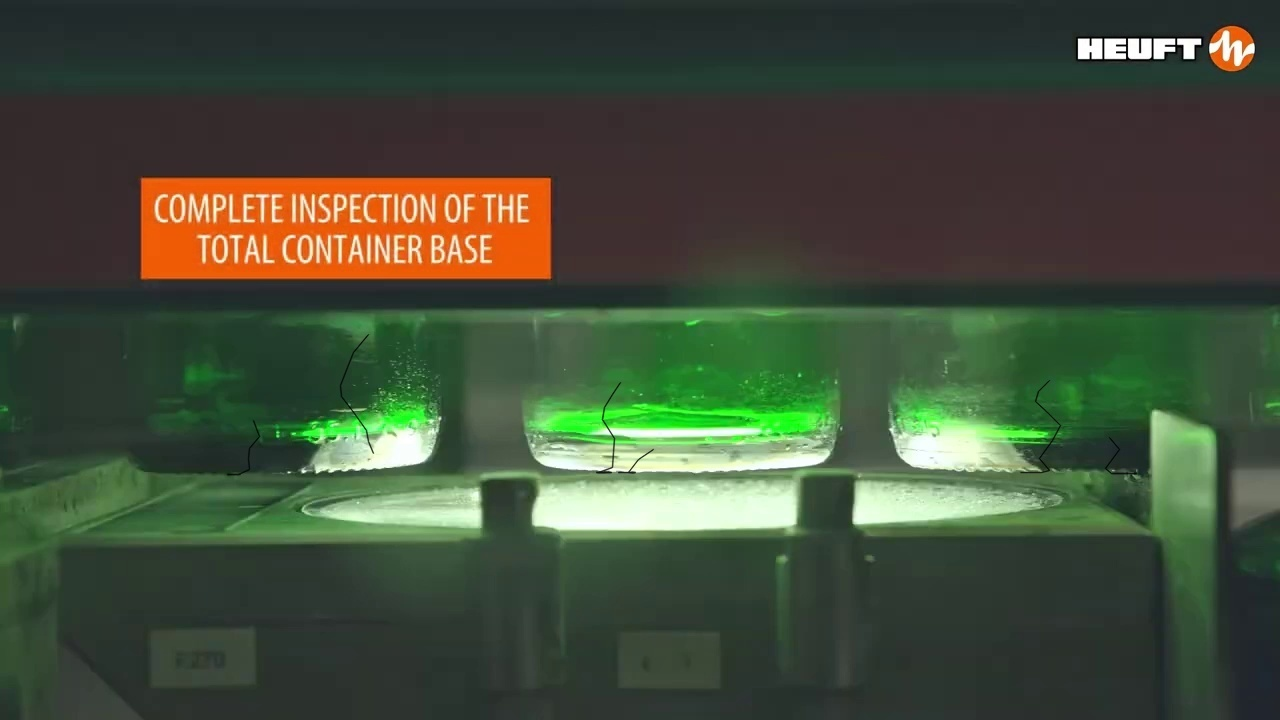bottle: (888, 311, 1212, 470), (134, 319, 456, 476), (519, 318, 838, 468)
crack: (227, 420, 259, 474), (1105, 437, 1136, 473), (618, 449, 653, 472)
